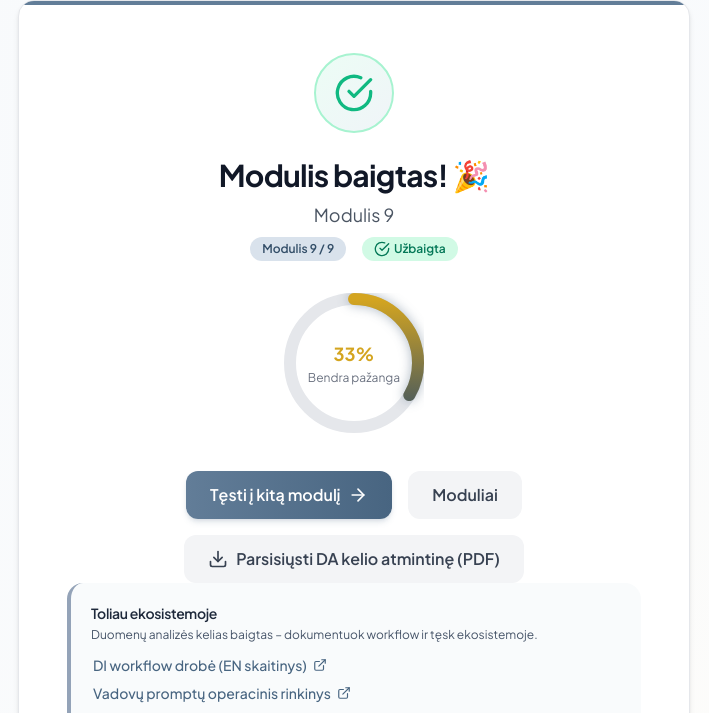
it: ModuleCompleteScreen › logs and shows retry message when M7-9 handout generation fails
The width and height of the screenshot is (709, 713).
What coordinates should you click on to do the following:
click the button "Parsisiųsti DA kelio atmintinę (PDF)"
I would click on:
 (354, 559)
Its box is [184,535,524,583].
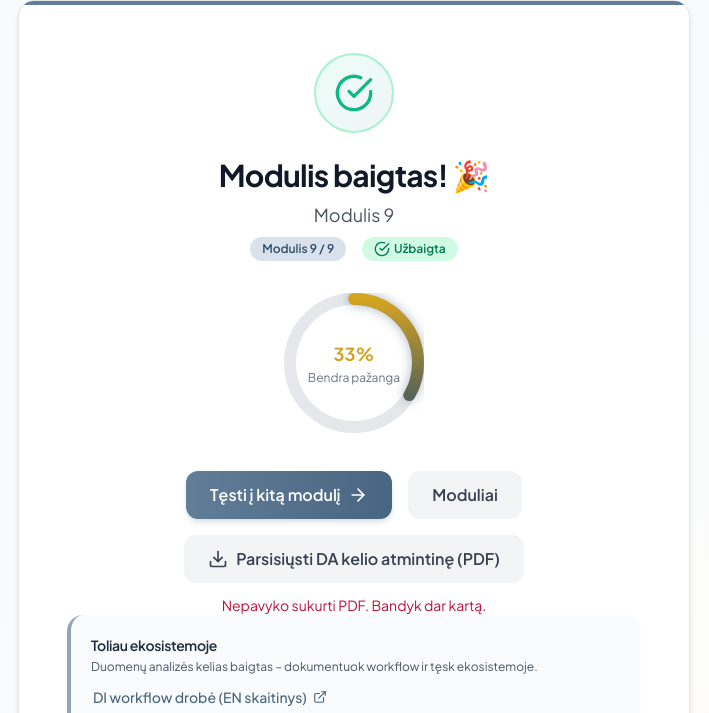
Check: the text "Nepavyko sukurti PDF. Bandyk dar kartą." is shown, box [222,596,486,614]
